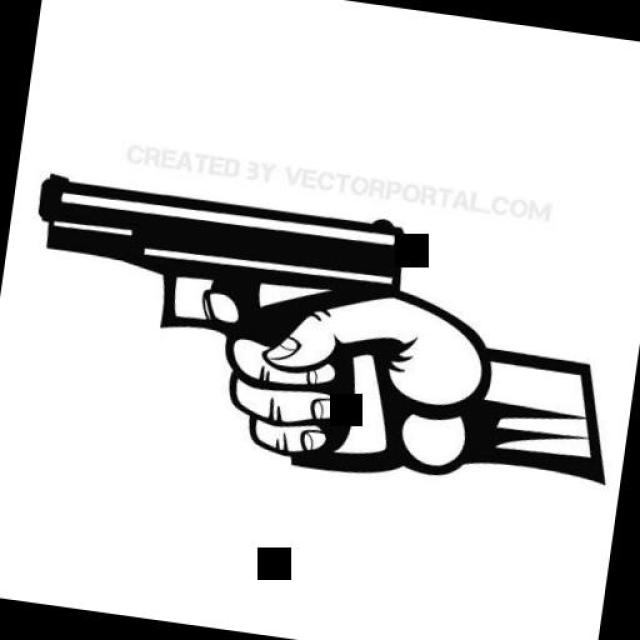gun: (4, 161, 432, 480)
